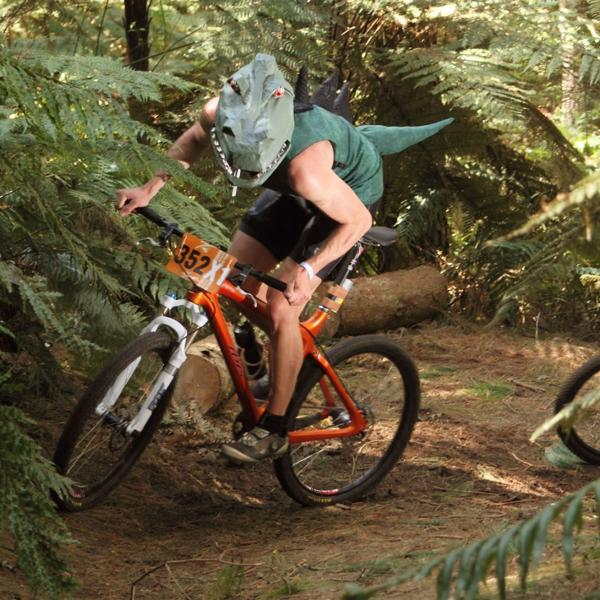person: (113, 52, 388, 468)
